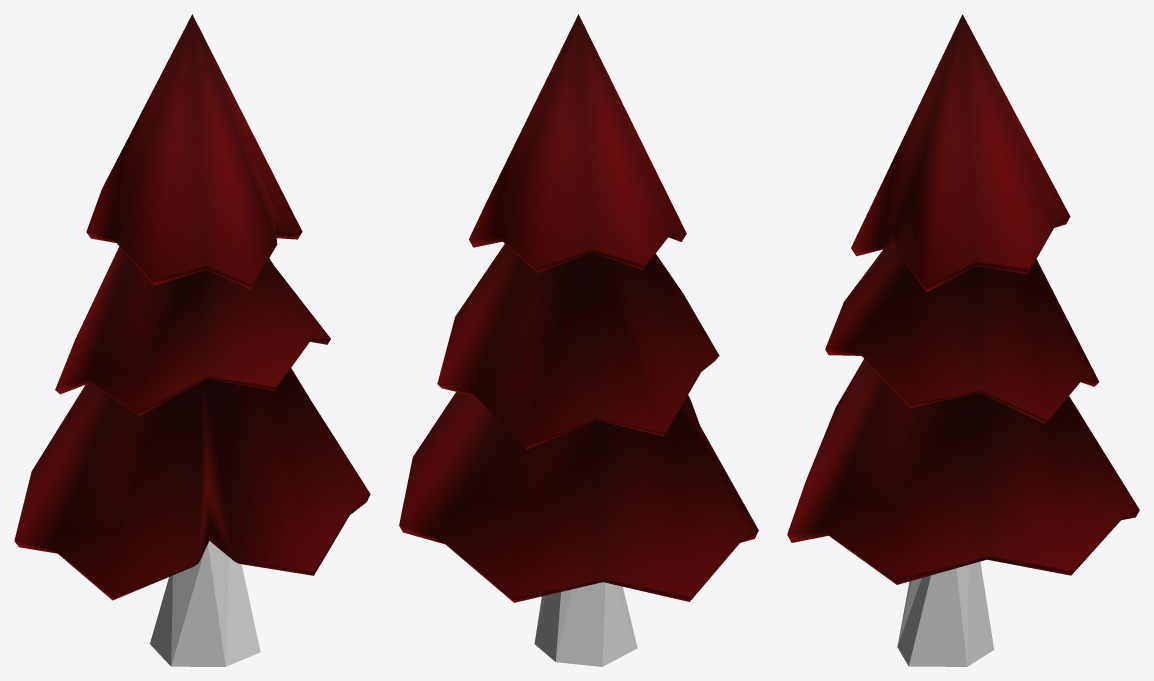
Rendered from PineTree02.fbx.
3 renders of one model, left to right at view 1: azimuth 30°, elevation 25°; view 2: azimuth 150°, elevation 25°; view 3: azimuth 270°, elevation 25°, orthographic.
Visible parts, largest first — view 1: PineTree01_Leafs_LOD0.001, PineTree01_Trunk_LOD0.001; view 2: PineTree01_Leafs_LOD0.001, PineTree01_Trunk_LOD0.001; view 3: PineTree01_Leafs_LOD0.001, PineTree01_Trunk_LOD0.001.
Boxes of the visible parts, <box> form: PineTree01_Leafs_LOD0.001: <box>14,14,370,600</box>; PineTree01_Trunk_LOD0.001: <box>150,541,260,666</box>; PineTree01_Leafs_LOD0.001: <box>399,14,758,602</box>; PineTree01_Trunk_LOD0.001: <box>534,582,637,666</box>; PineTree01_Leafs_LOD0.001: <box>787,14,1139,584</box>; PineTree01_Trunk_LOD0.001: <box>897,561,993,666</box>.
Bounding box in the file's own units: 1.69 × 3.36 × 1.7.
